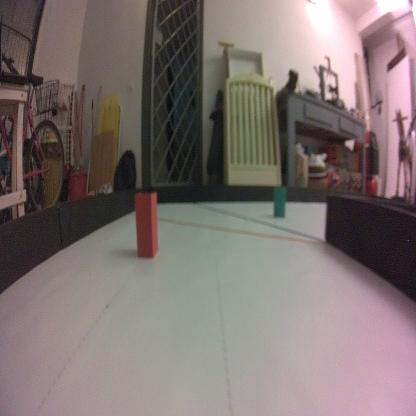green: (273, 186, 286, 217)
red: (134, 189, 160, 262)
